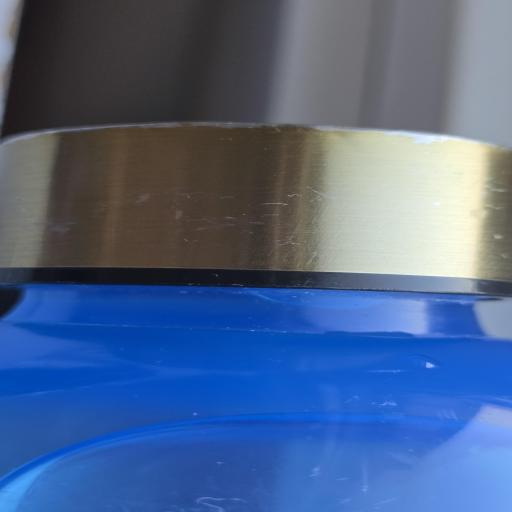bottle: (0, 120, 510, 512)
